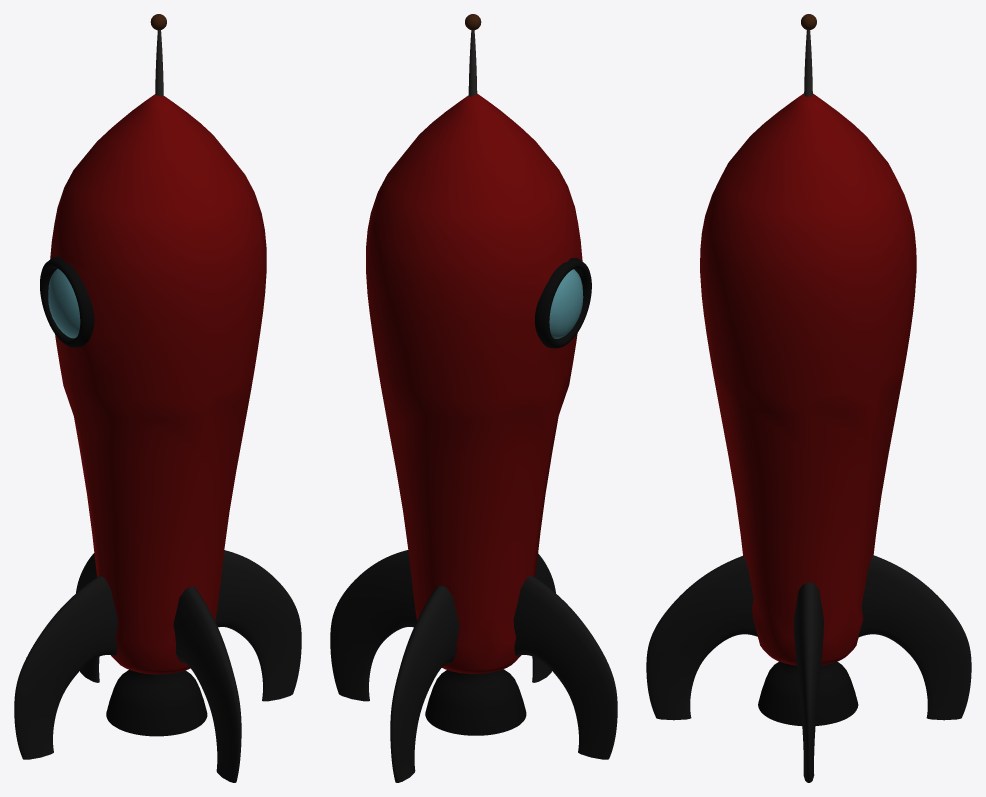
File: rocket (1).obj
3 renders of one model, left to right at view 1: azimuth 30°, elevation 25°; view 2: azimuth 150°, elevation 25°; view 3: azimuth 270°, elevation 25°, orthographic.
Visible parts, largest first — view 1: nurbsToPoly13; view 2: nurbsToPoly13; view 3: nurbsToPoly13.
Boxes of the visible parts, bbox=[...] form: nurbsToPoly13: bbox=[14, 14, 301, 782]; nurbsToPoly13: bbox=[330, 14, 617, 782]; nurbsToPoly13: bbox=[646, 14, 971, 782].
Size of the model in its own units: 6.49 by 15.38 by 6.44.
